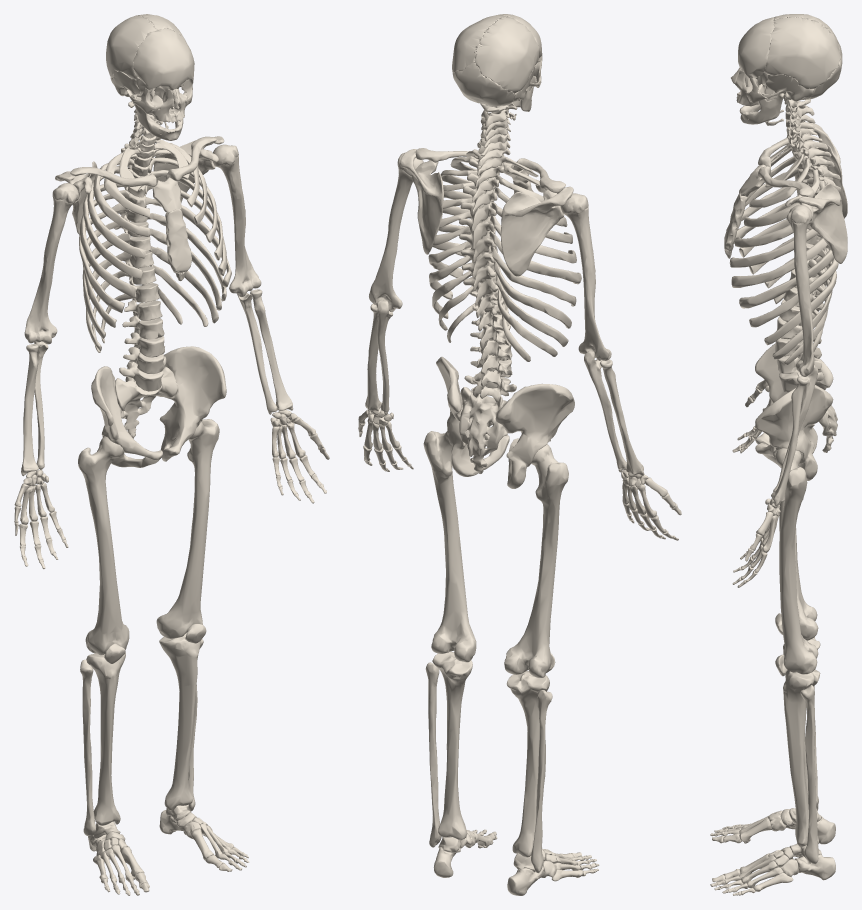
File: skeletal-v2.glb
The picture shows the model from 3 angles, left to right: view 1: azimuth 30°, elevation 25°; view 2: azimuth 150°, elevation 25°; view 3: azimuth 270°, elevation 25°; orthographic projection. The views are drawn at different scales.
Parts seen in each view (by area): view 1: bone.femur.right, bone.femur.left, bone.os_coxae.left, bone.tibia.left, bone.os_frontale.midline, bone.tibia.right, bone.humerus.right, bone.humerus.left, bone.os_coxae.right, bone.os_parietale.right, bone.os_sacrum.midline, bone.fibula.right (+20 smaller); view 2: bone.femur.right, bone.femur.left, bone.os_coxae.right, bone.scapula.right, bone.os_parietale.right, bone.tibia.left, bone.tibia.right, bone.humerus.right, bone.os_sacrum.midline, bone.humerus.left, bone.os_coxae.left, bone.scapula.left (+15 smaller); view 3: bone.femur.left, bone.os_parietale.left, bone.os_coxae.left, bone.tibia.left, bone.humerus.left, bone.scapula.left, bone.fibula.left, bone.os_coxae.right, bone.os_frontale.midline, bone.radius.left, bone.femur.right, bone.costa.left.7 (+27 smaller).
Boxes of the visible parts, bbox=[...] form: bone.femur.right: bbox=[78, 436, 129, 655]; bone.femur.left: bbox=[156, 419, 219, 638]; bone.os_coxae.left: bbox=[159, 346, 226, 461]; bone.tibia.left: bbox=[159, 632, 201, 810]; bone.os_frontale.midline: bbox=[133, 28, 194, 91]; bone.tibia.right: bbox=[86, 652, 125, 825]; bone.humerus.right: bbox=[24, 183, 78, 344]; bone.humerus.left: bbox=[212, 144, 261, 297]; bone.os_coxae.right: bbox=[91, 366, 162, 467]; bone.os_parietale.right: bbox=[106, 15, 157, 79]; bone.os_sacrum.midline: bbox=[115, 366, 177, 438]; bone.fibula.right: bbox=[80, 659, 95, 835]; bone.femur.right: bbox=[504, 444, 568, 677]; bone.femur.left: bbox=[423, 431, 476, 662]; bone.os_coxae.right: bbox=[495, 383, 574, 488]; bone.scapula.right: bbox=[500, 186, 573, 276]; bone.os_parietale.right: bbox=[474, 16, 539, 93]; bone.tibia.left: bbox=[432, 651, 472, 839]; bone.tibia.right: bbox=[506, 671, 549, 857]; bone.humerus.right: bbox=[561, 193, 611, 360]; bone.os_sacrum.midline: bbox=[459, 387, 507, 474]; bone.humerus.left: bbox=[369, 152, 423, 311]; bone.os_coxae.left: bbox=[436, 356, 509, 476]; bone.scapula.left: bbox=[400, 149, 443, 254]; bone.femur.left: bbox=[775, 448, 818, 674]; bone.os_parietale.left: bbox=[763, 17, 840, 88]; bone.os_coxae.left: bbox=[755, 385, 833, 480]; bone.tibia.left: bbox=[783, 669, 820, 846]; bone.humerus.left: bbox=[786, 204, 814, 376]; bone.scapula.left: bbox=[785, 183, 847, 263]; bone.fibula.left: bbox=[800, 685, 818, 863]; bone.os_coxae.right: bbox=[755, 343, 833, 453]; bone.os_frontale.midline: bbox=[738, 17, 774, 78]; bone.radius.left: bbox=[771, 376, 808, 506]; bone.femur.right: bbox=[779, 497, 818, 640]; bone.costa.left.7: bbox=[739, 249, 834, 308].
Size of the model in its own units: 0.648 by 1.64 by 0.2422.
